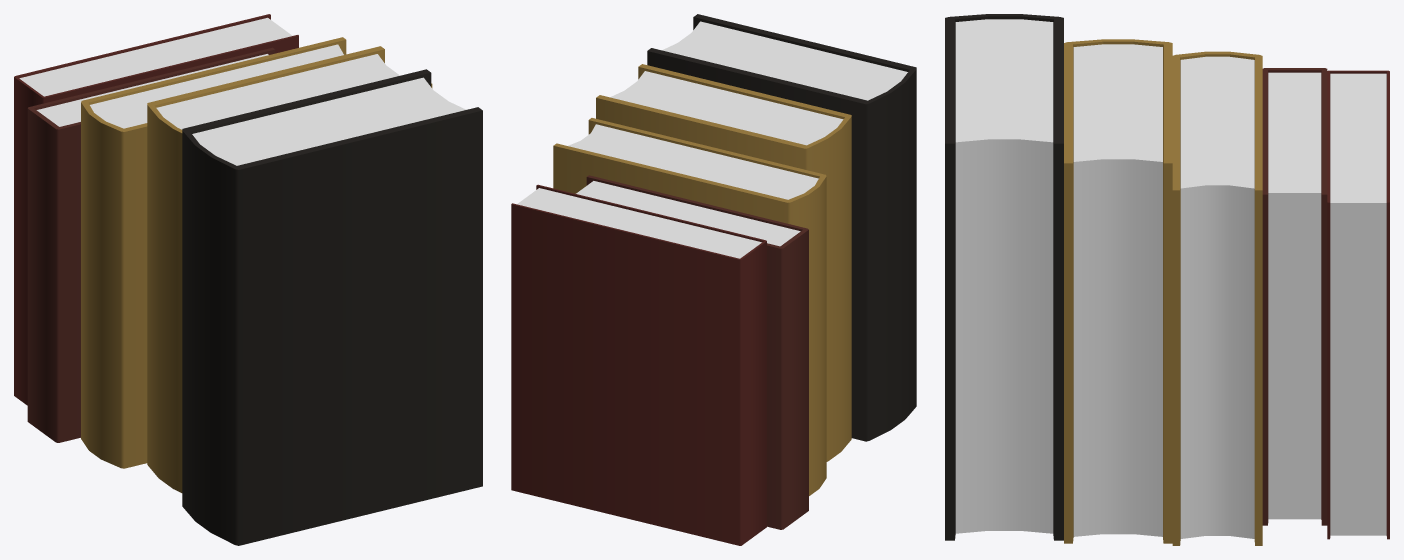
File: 073_books_var1.glb
3 views of the same model, side by side, from view 1: azimuth 30°, elevation 25°; view 2: azimuth 150°, elevation 25°; view 3: azimuth 270°, elevation 25° (orthographic). The views are drawn at different scales.
Visible parts, largest first — view 1: Plane.006, Plane.003, Plane.005, Plane, Plane.001; view 2: Plane.001, Plane.006, Plane.005, Plane.003, Plane; view 3: Plane.006, Plane.005, Plane.003, Plane, Plane.001.
Part boxes in pixels (x1,y1,x2,y2): Plane.006: (182,69,482,545); Plane.003: (81,37,346,468); Plane.005: (147,46,432,492); Plane: (27,47,275,442); Plane.001: (14,14,298,405); Plane.001: (511,184,766,545); Plane.006: (647,14,916,441); Plane.005: (596,64,851,461); Plane.003: (553,118,826,495); Plane: (576,175,808,529); Plane.006: (945,14,1063,540); Plane.005: (1064,39,1172,543); Plane.003: (1172,51,1262,545); Plane: (1262,68,1327,525); Plane.001: (1327,70,1389,539).
Bounding box in the file's own units: 0.587 × 0.7383 × 0.75.
